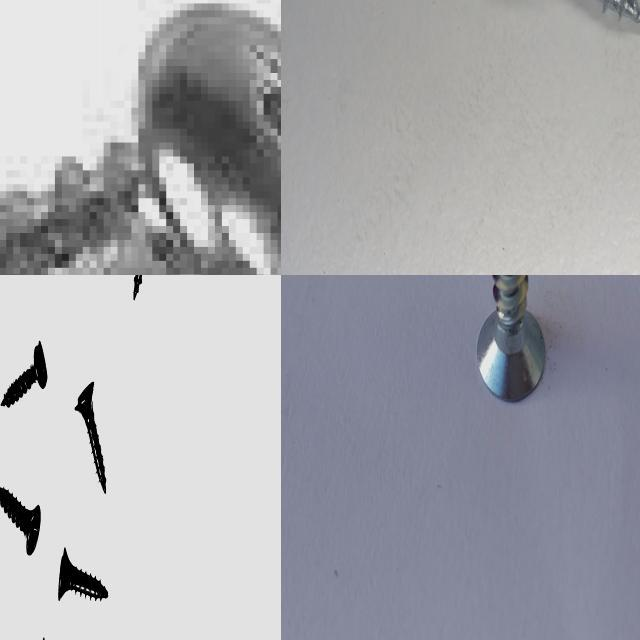Screw: (0, 3, 281, 275), (477, 275, 546, 400), (75, 380, 106, 492), (1, 339, 47, 405), (0, 486, 40, 554), (58, 547, 108, 600)
